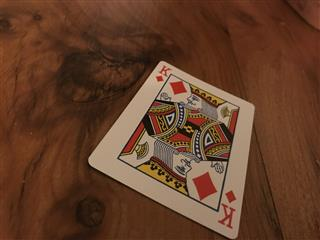KingOfDiamonds: (86, 59, 256, 240)
